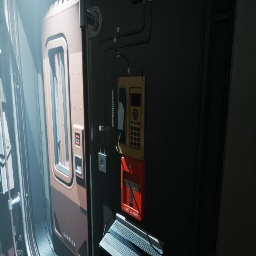EmergencyPhone ,: (112, 53, 147, 160)
FireAlarm ,: (121, 154, 145, 221)
SafetySwitchPanel ,: (0, 108, 14, 194)
